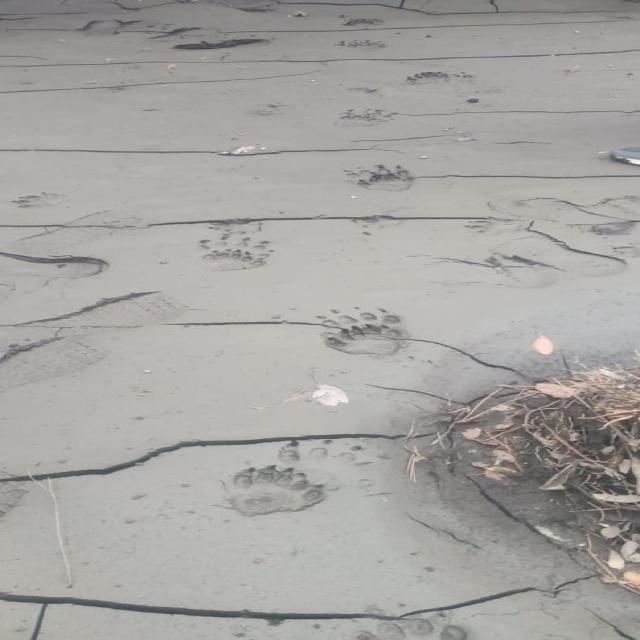bear: (222, 468, 320, 516), (325, 310, 410, 356), (196, 236, 275, 274), (346, 163, 426, 195)
